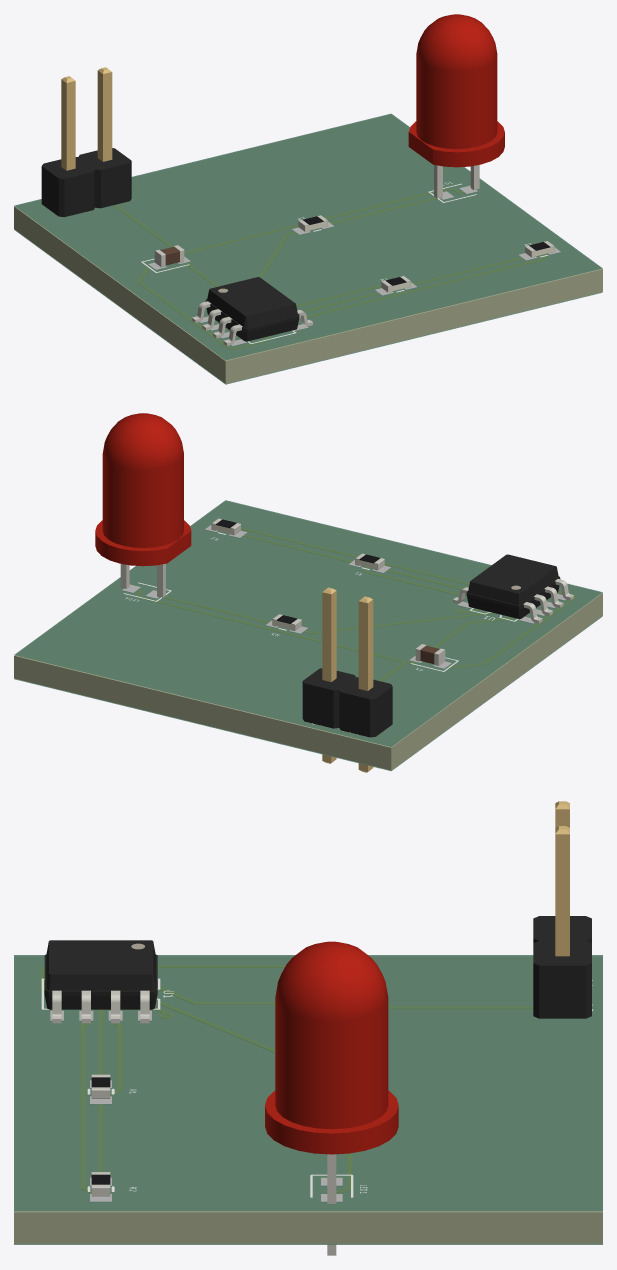
The model's file is ne555-blinker.glb.
3 views of the same model, one above another, from view 1: azimuth 30°, elevation 25°; view 2: azimuth 150°, elevation 25°; view 3: azimuth 270°, elevation 25° (orthographic). The views are drawn at different scales.
Visible parts, largest first — view 1: =>[0:1:1:18], =>[0:1:1:16], =>[0:1:1:5], =>[0:1:1:7], =>[0:1:1:11], =>[0:1:1:12], =>[0:1:1:13], =>[0:1:1:17], =>[0:1:1:9]; view 2: =>[0:1:1:18], =>[0:1:1:16], =>[0:1:1:5], =>[0:1:1:7], =>[0:1:1:11], =>[0:1:1:12], =>[0:1:1:13], =>[0:1:1:17], =>[0:1:1:9]; view 3: =>[0:1:1:18], =>[0:1:1:16], =>[0:1:1:5], =>[0:1:1:11], =>[0:1:1:7], =>[0:1:1:12], =>[0:1:1:13], =>[0:1:1:15].
Part boxes in pixels (x1,y1,x2,y2): =>[0:1:1:18]: (14,115,602,383); =>[0:1:1:16]: (14,113,602,360); =>[0:1:1:5]: (408,14,504,198); =>[0:1:1:7]: (41,67,131,217); =>[0:1:1:11]: (192,277,312,345); =>[0:1:1:12]: (114,189,545,349); =>[0:1:1:13]: (148,185,560,345); =>[0:1:1:17]: (14,229,602,384); =>[0:1:1:9]: (154,245,184,267); =>[0:1:1:18]: (14,501,602,770); =>[0:1:1:16]: (14,500,602,746); =>[0:1:1:5]: (95,413,191,597); =>[0:1:1:7]: (302,587,392,772); =>[0:1:1:11]: (453,554,573,623); =>[0:1:1:12]: (137,528,576,680); =>[0:1:1:13]: (122,525,565,668); =>[0:1:1:17]: (14,616,602,771); =>[0:1:1:9]: (415,644,445,665); =>[0:1:1:18]: (14,957,602,1243); =>[0:1:1:16]: (14,955,602,1211); =>[0:1:1:5]: (265,941,398,1255); =>[0:1:1:11]: (44,940,157,1023); =>[0:1:1:7]: (533,801,591,1018); =>[0:1:1:12]: (41,966,532,1192); =>[0:1:1:13]: (50,1011,342,1201); =>[0:1:1:15]: (41,978,593,1197).
Size of the model in its own units: 0.027 by 0.0146 by 0.0255.
